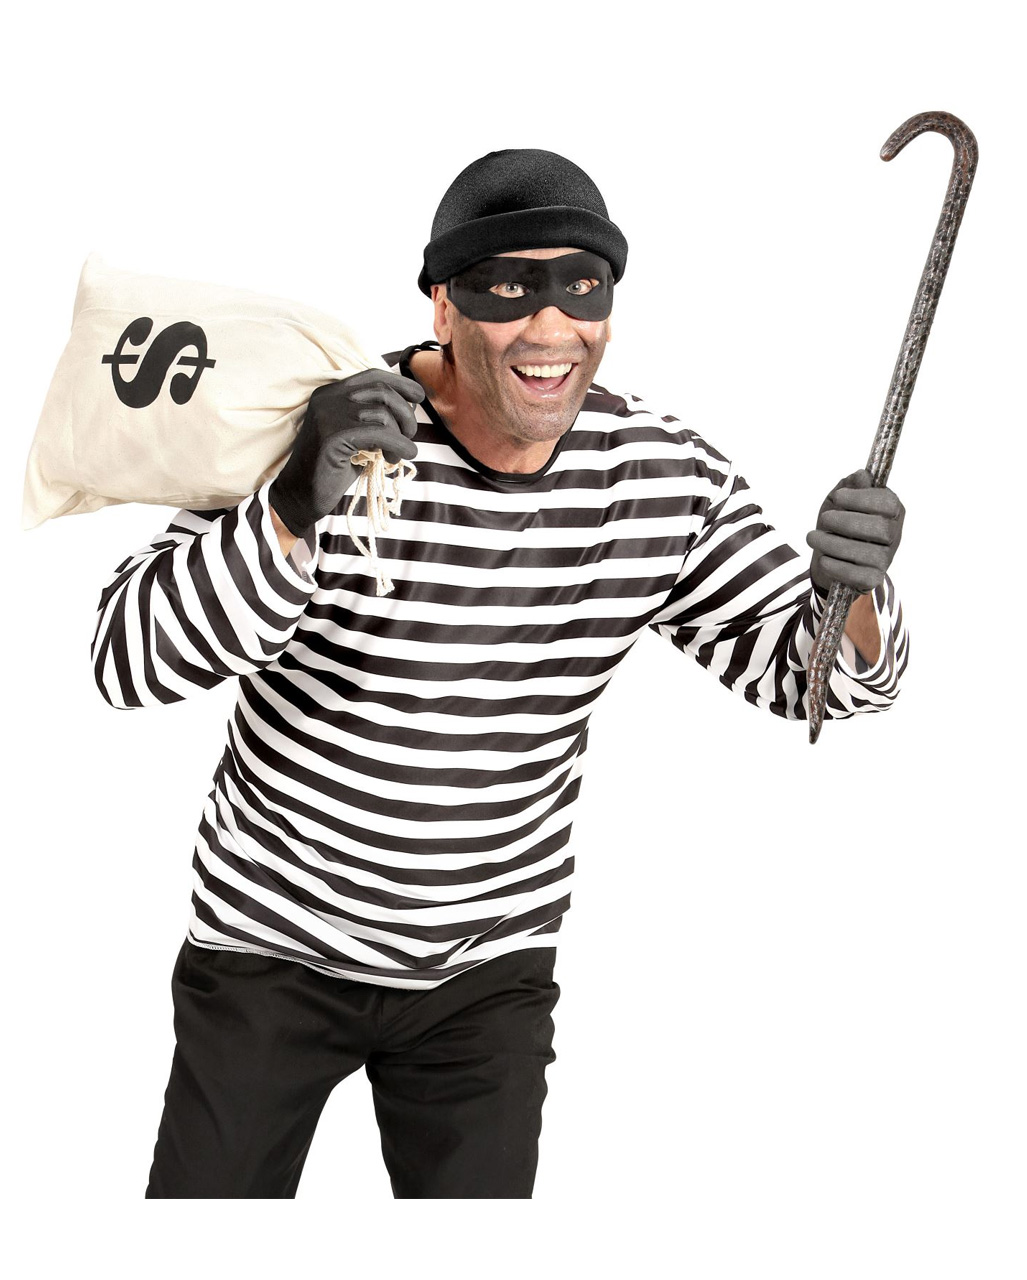thief: (277, 84, 1013, 904), (410, 135, 661, 461)
weapon: (775, 90, 999, 782)
